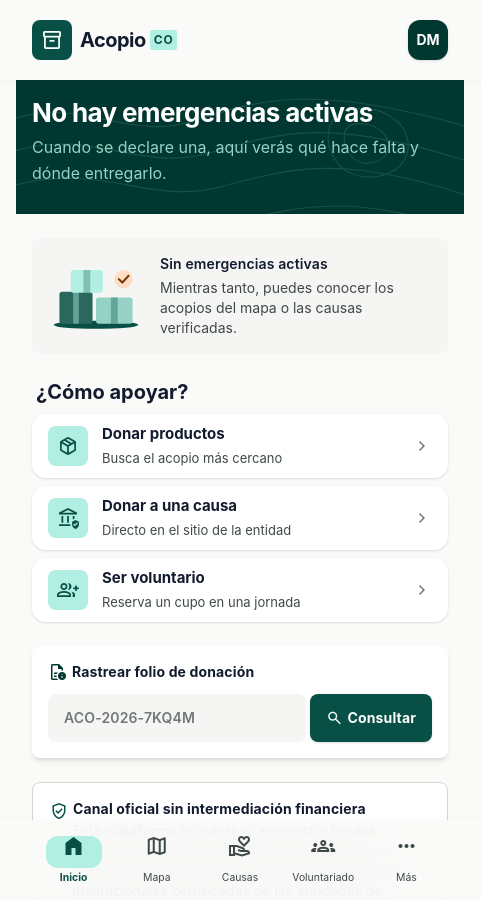
Test: el menú de la cuenta muestra nombre y rol, y cierra la sesión
Click the button with aria-label "Cuenta de Daniela Méndez" at (428, 40), box x1=408 y1=20 x2=448 y2=60
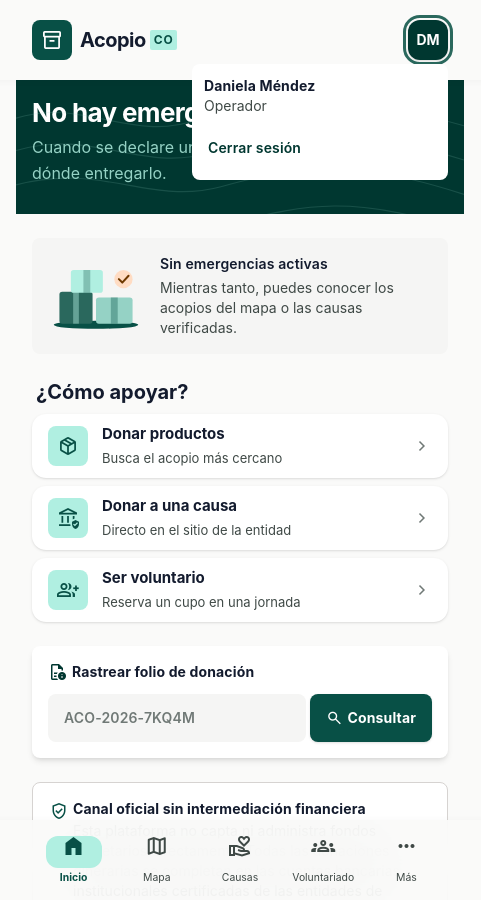
Expected: the menu shows "Daniela Méndez", x1=204 y1=77 x2=315 y2=94
Expected: the menu shows "Operador", x1=204 y1=97 x2=267 y2=114
Click the menu item "Cerrar sesión" at (320, 148), box x1=200 y1=124 x2=440 y2=172
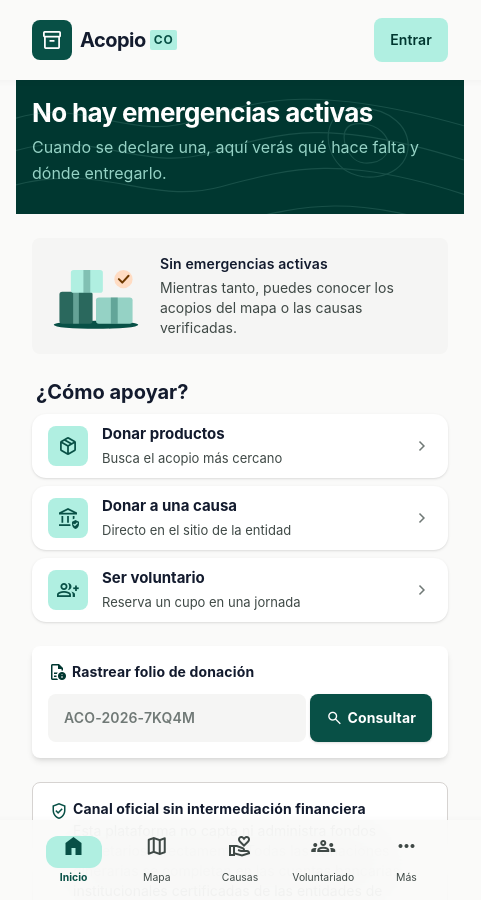
Expected: the link "Entrar" is shown, x1=374 y1=18 x2=448 y2=62
